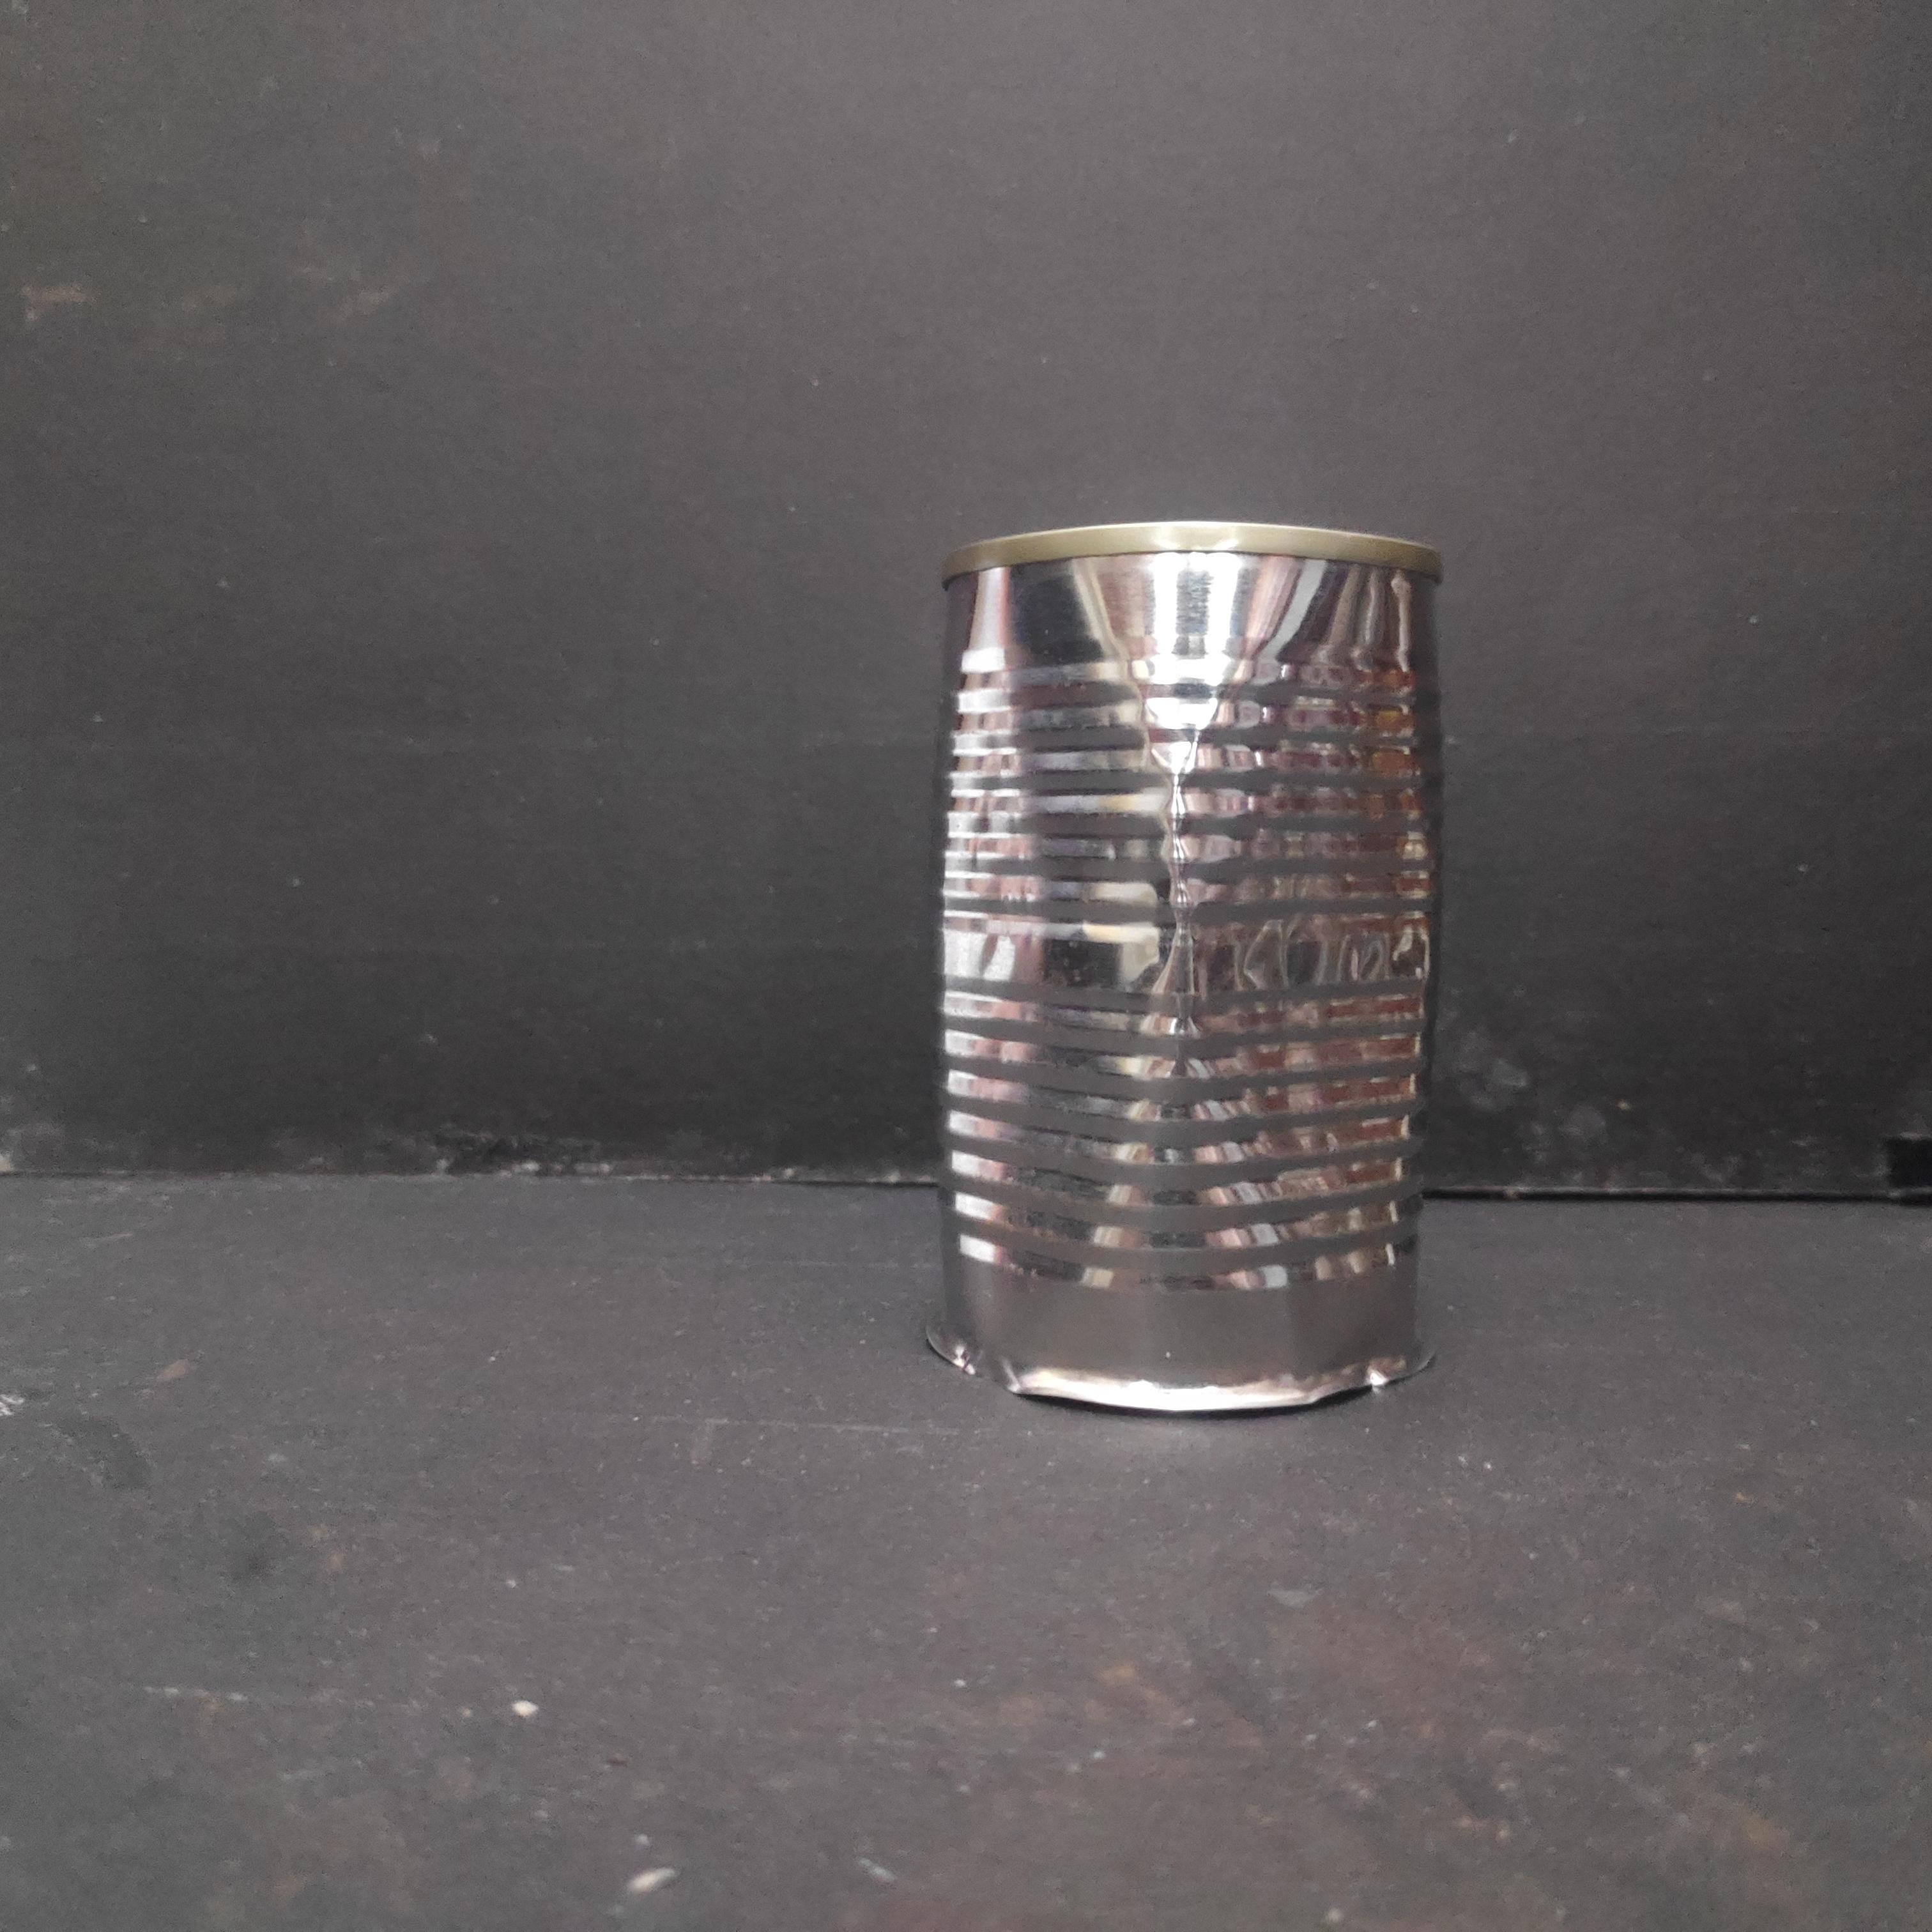Minor Defect: (927, 511, 1444, 1426)
